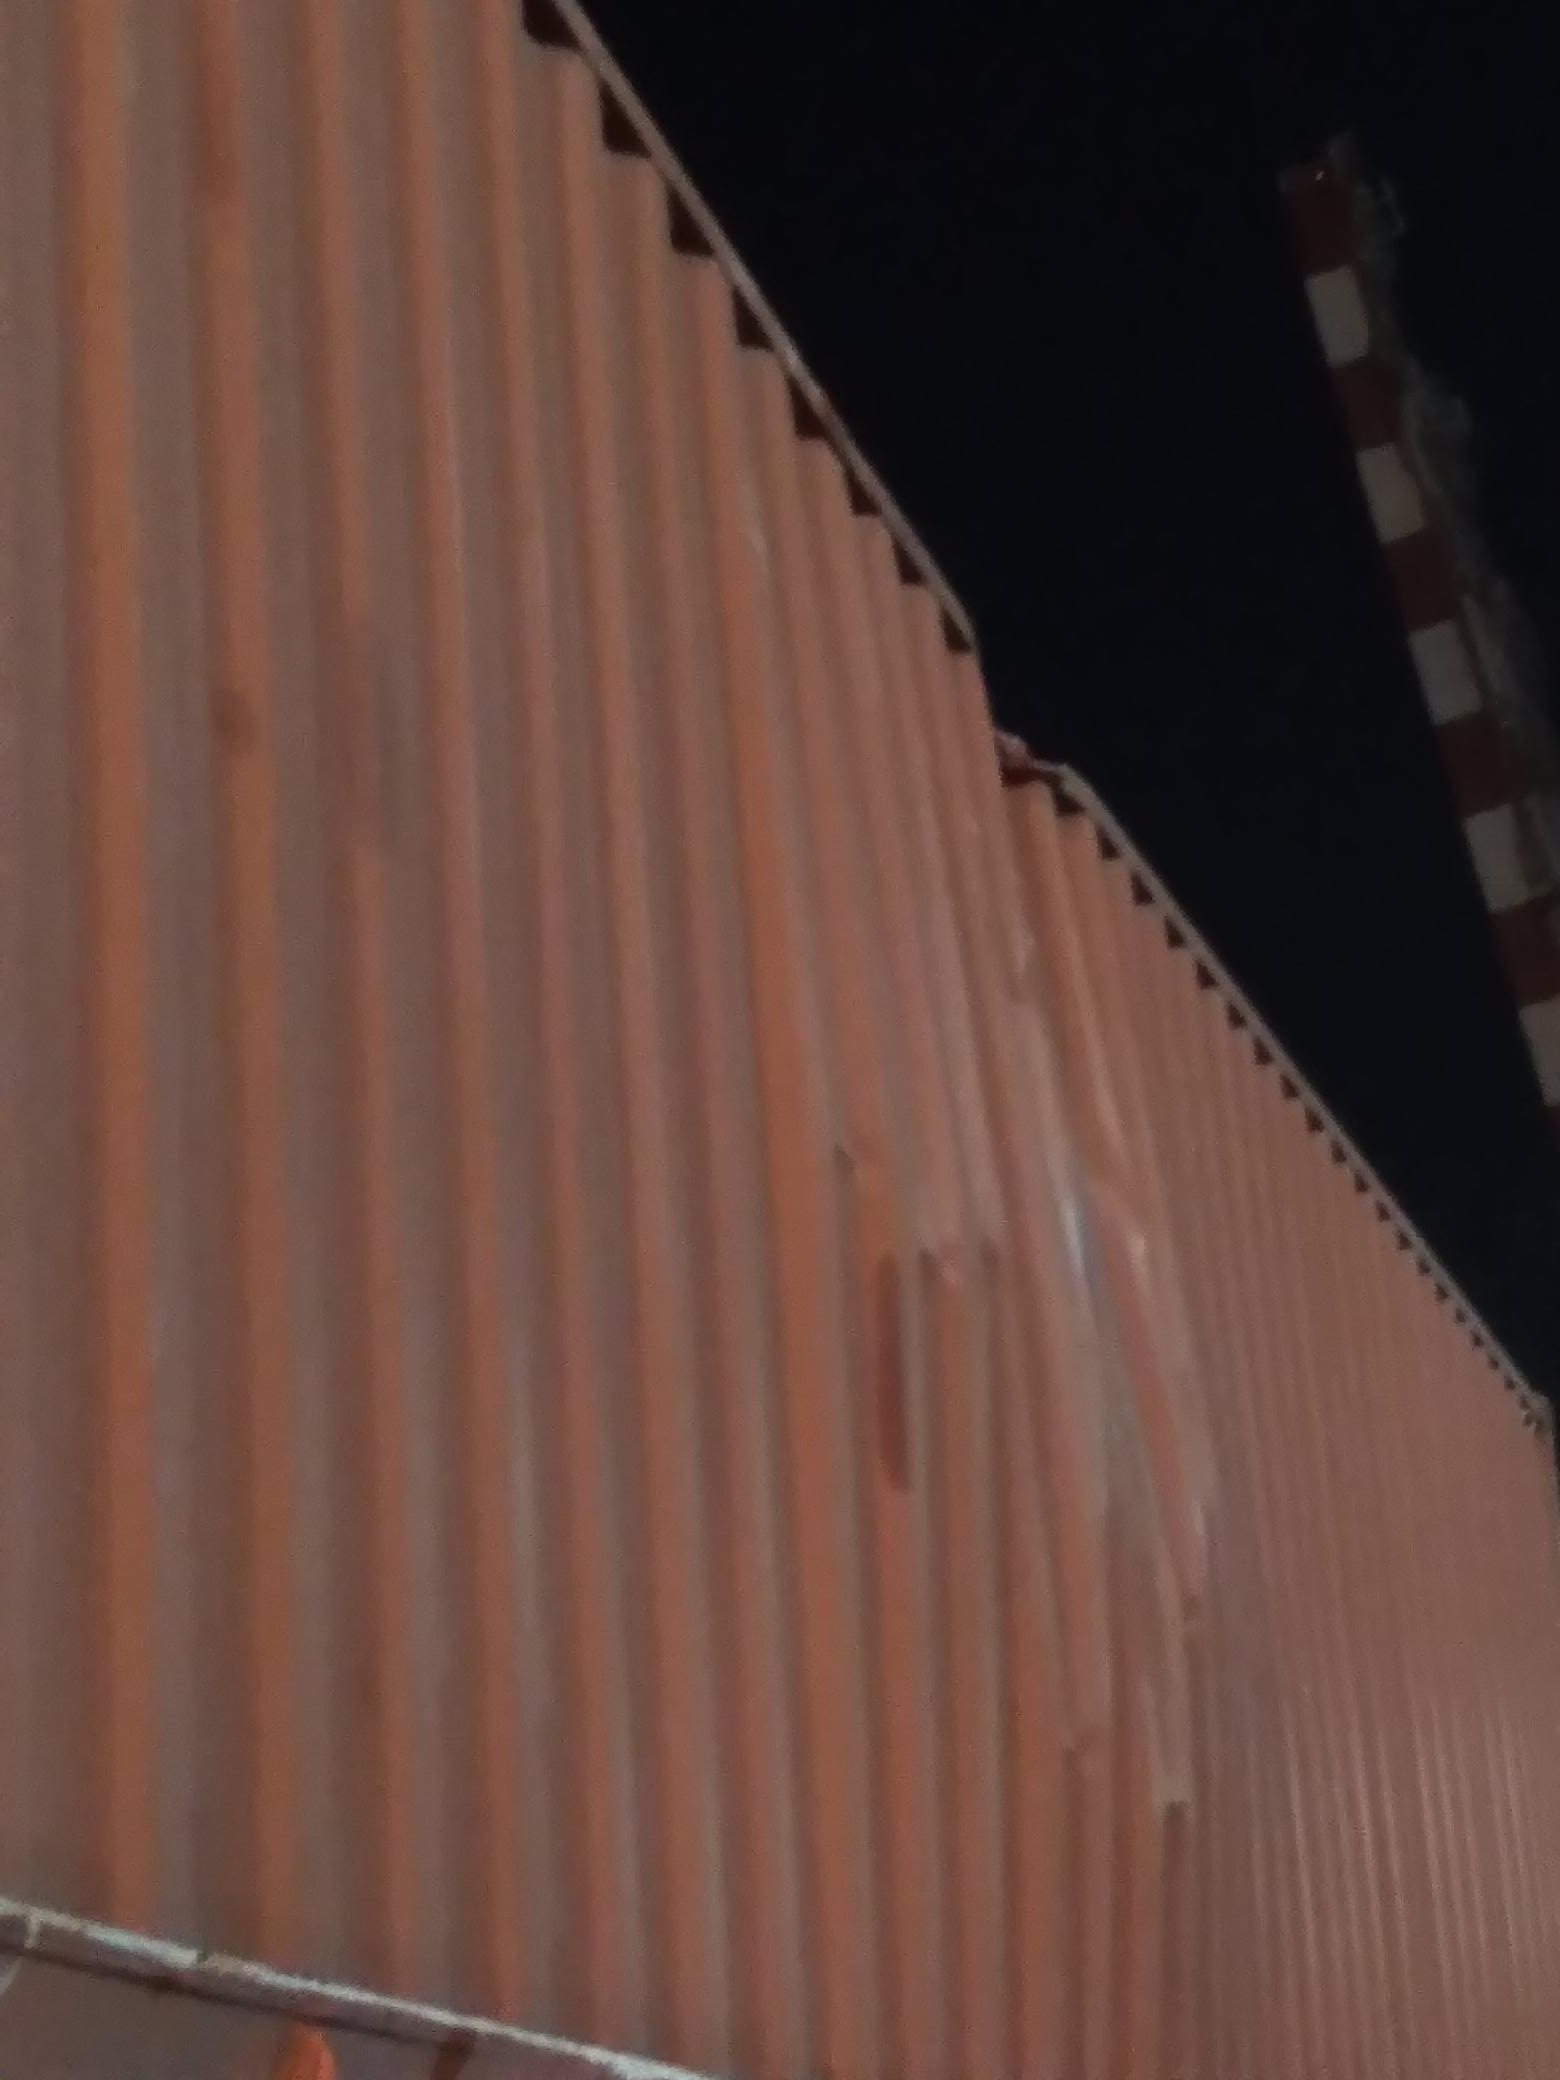dented: (831, 706, 1245, 1864)
